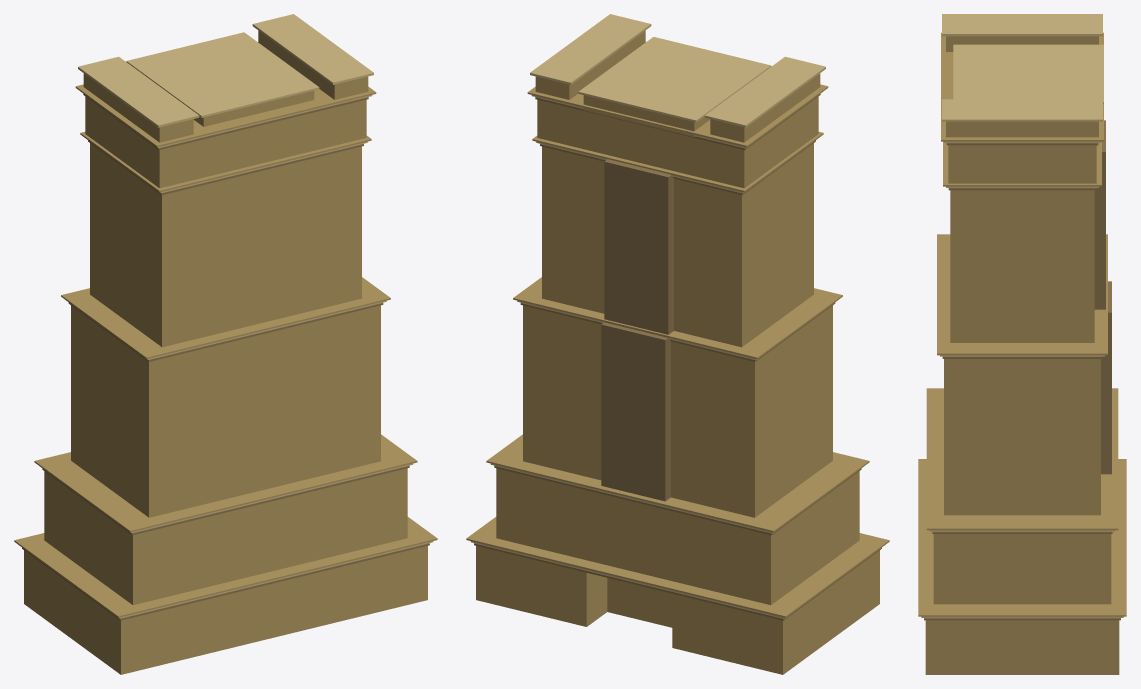
The model's file is KOL_T1_ROYAL__01_Massing.fbx.
The picture shows the model from 3 angles, left to right: view 1: azimuth 30°, elevation 25°; view 2: azimuth 150°, elevation 25°; view 3: azimuth 270°, elevation 25°; orthographic projection.
Parts seen in each view (by area): view 1: KOL_T1_ROYAL__01_Massing__KOL_T1_RoyalOchre, KOL_T1_ROYAL__01_Massing__KOL_T1_RoyalTrim, KOL_T1_ROYAL__01_Massing__KOL_T1_RoyalStone; view 2: KOL_T1_ROYAL__01_Massing__KOL_T1_RoyalOchre, KOL_T1_ROYAL__01_Massing__KOL_T1_RoyalStone, KOL_T1_ROYAL__01_Massing__KOL_T1_RoyalTrim; view 3: KOL_T1_ROYAL__01_Massing__KOL_T1_RoyalOchre, KOL_T1_ROYAL__01_Massing__KOL_T1_RoyalTrim, KOL_T1_ROYAL__01_Massing__KOL_T1_RoyalStone.
Part boxes in pixels (x1=…): KOL_T1_ROYAL__01_Massing__KOL_T1_RoyalOchre: x1=14, y1=30, x2=437, y2=674; KOL_T1_ROYAL__01_Massing__KOL_T1_RoyalTrim: x1=28, y1=14, x2=433, y2=618; KOL_T1_ROYAL__01_Massing__KOL_T1_RoyalStone: x1=22, y1=94, x2=429, y2=620; KOL_T1_ROYAL__01_Massing__KOL_T1_RoyalOchre: x1=466, y1=30, x2=889, y2=674; KOL_T1_ROYAL__01_Massing__KOL_T1_RoyalStone: x1=474, y1=94, x2=881, y2=620; KOL_T1_ROYAL__01_Massing__KOL_T1_RoyalTrim: x1=470, y1=14, x2=875, y2=618; KOL_T1_ROYAL__01_Massing__KOL_T1_RoyalOchre: x1=918, y1=32, x2=1126, y2=674; KOL_T1_ROYAL__01_Massing__KOL_T1_RoyalTrim: x1=921, y1=14, x2=1123, y2=617; KOL_T1_ROYAL__01_Massing__KOL_T1_RoyalStone: x1=924, y1=120, x2=1120, y2=620.
Size of the model in its own units: 179 by 285 by 101.
